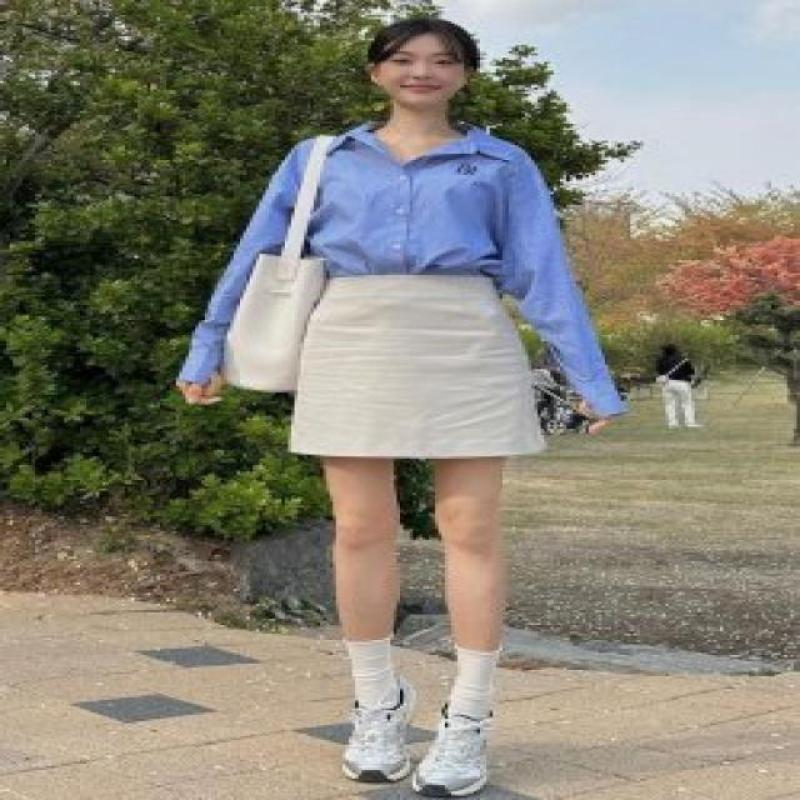long sleeve shirt: (173, 118, 630, 419)
skirt: (286, 272, 549, 458)
